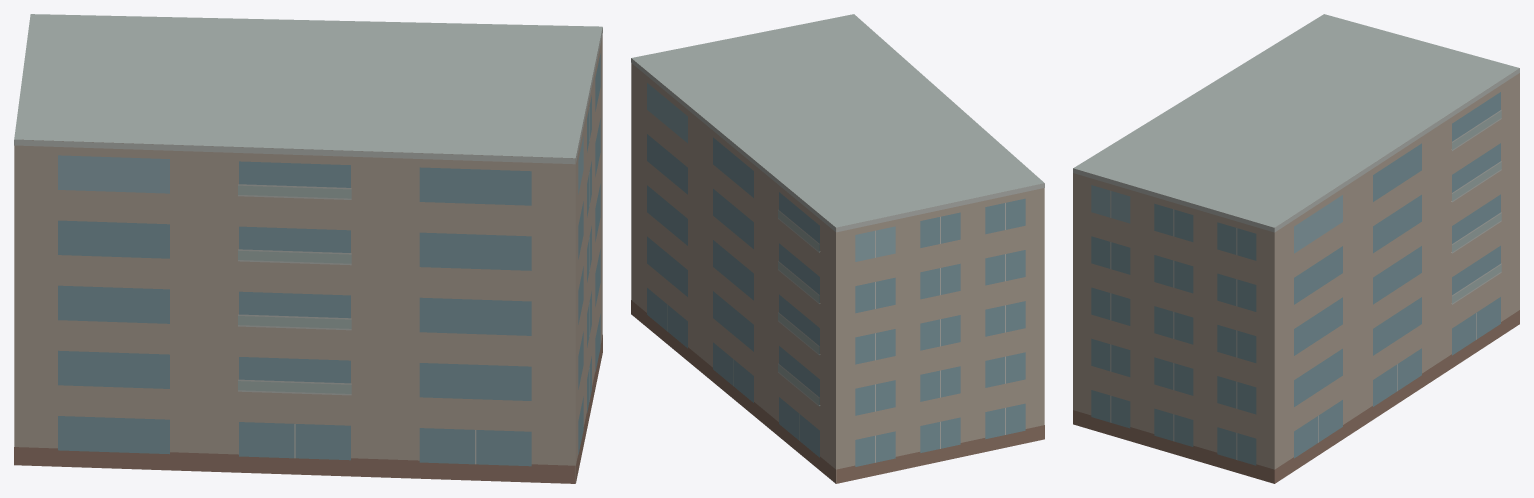
File: survey-upis-33006548.glb
The picture shows the model from 3 angles, left to right: view 1: azimuth 30°, elevation 25°; view 2: azimuth 150°, elevation 25°; view 3: azimuth 270°, elevation 25°; orthographic projection. The views are drawn at different scales.
Visible parts, largest first — view 1: survey-upis-33006548.tmp; view 2: survey-upis-33006548.tmp; view 3: survey-upis-33006548.tmp.
Boxes of the visible parts, x1=… form: survey-upis-33006548.tmp: x1=14, y1=14, x2=602, y2=483; survey-upis-33006548.tmp: x1=631, y1=14, x2=1044, y2=483; survey-upis-33006548.tmp: x1=1073, y1=14, x2=1519, y2=483.
Bounding box in the file's own units: 23.55 × 13.15 × 20.8.
